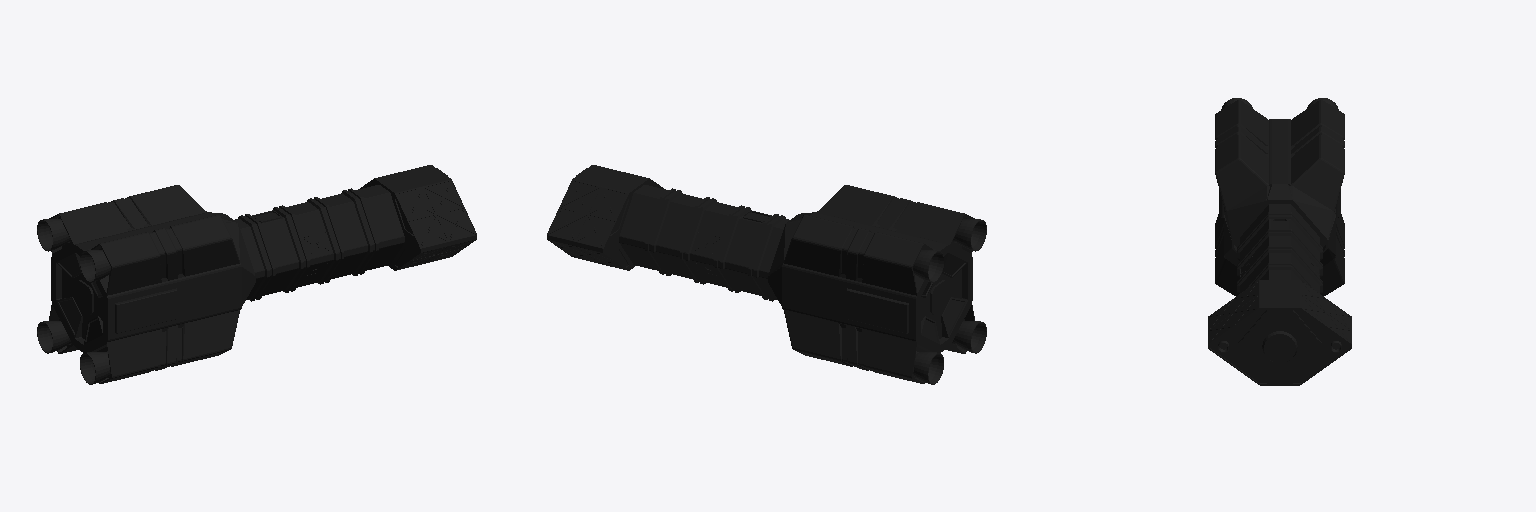
The model's file is shuttle_1.obj.
The picture shows the model from 3 angles: view 1: azimuth 30°, elevation 25°; view 2: azimuth 150°, elevation 25°; view 3: azimuth 270°, elevation 25°; orthographic projection.
Visible parts, largest first — view 1: Cylinder.002_Cylinder.003; view 2: Cylinder.002_Cylinder.003; view 3: Cylinder.002_Cylinder.003.
Part boxes in pixels (x1,y1,x2,y2): Cylinder.002_Cylinder.003: (37, 165, 476, 384); Cylinder.002_Cylinder.003: (547, 165, 986, 384); Cylinder.002_Cylinder.003: (1208, 98, 1351, 385).
Bounding box in the file's own units: 6.93 × 2.45 × 2.27.